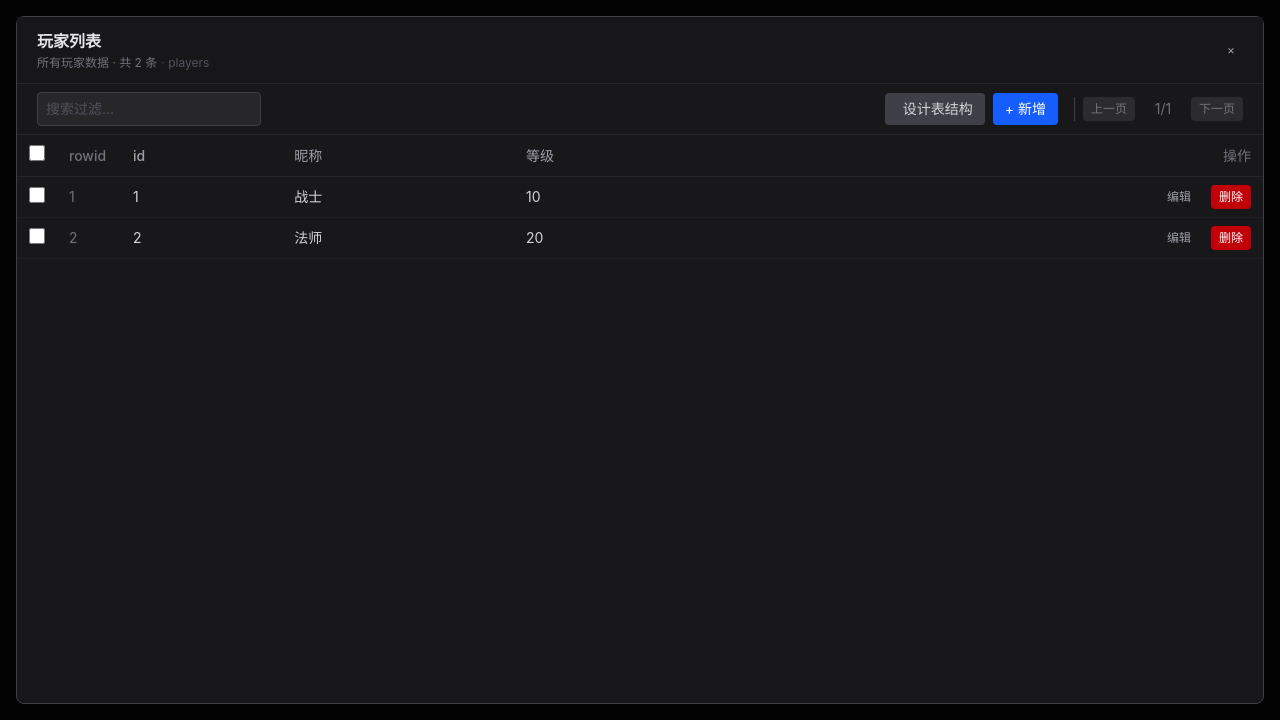
TableEditorPopup - 删除 › 点击行内"删除"打开确认弹窗
Check: the text "战士" is shown, box [294, 188, 322, 205]
点击第一行的"删除"按钮
Click the button "删除" in the row of "战士".
click(1231, 197)  # box [1211, 185, 1251, 209]
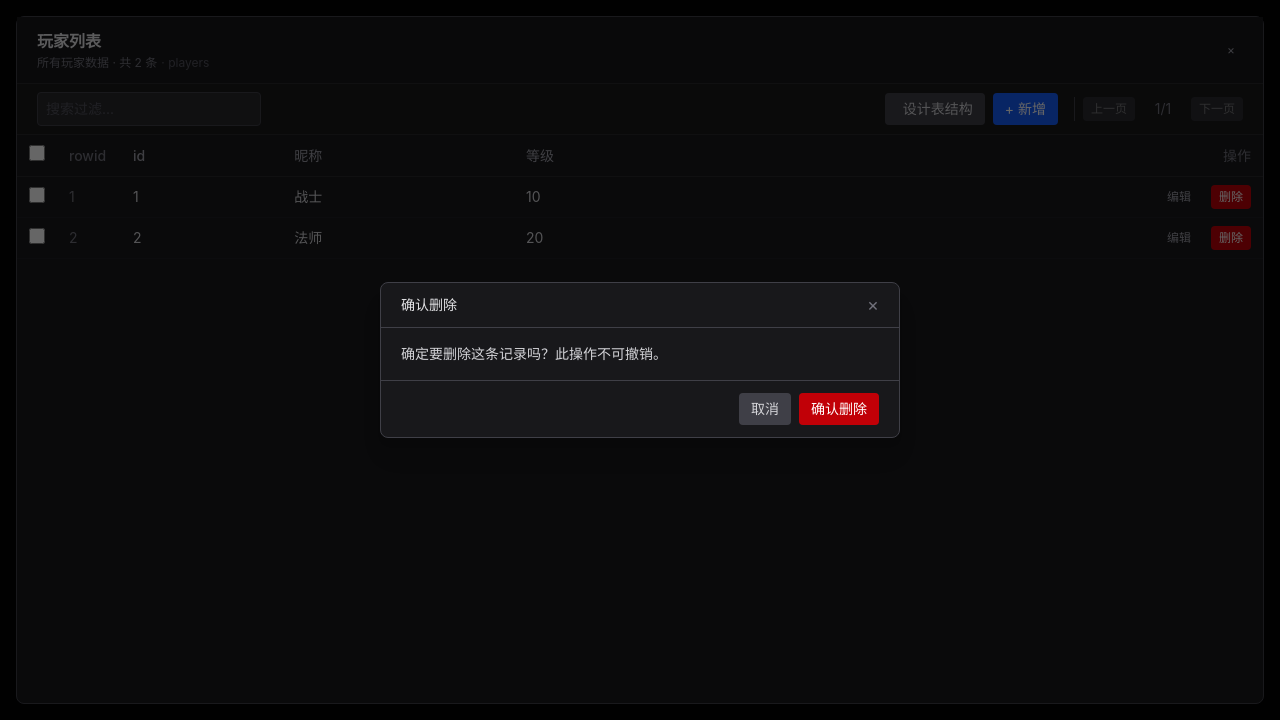
Check: the text "确定要删除这条记录吗？此操作不可撤销。" is shown, box [401, 345, 667, 362]
